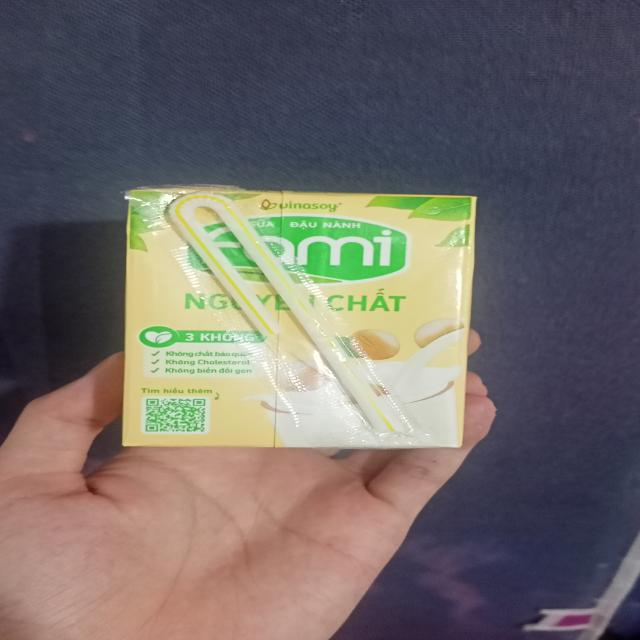Fami: (128, 188, 478, 448)
